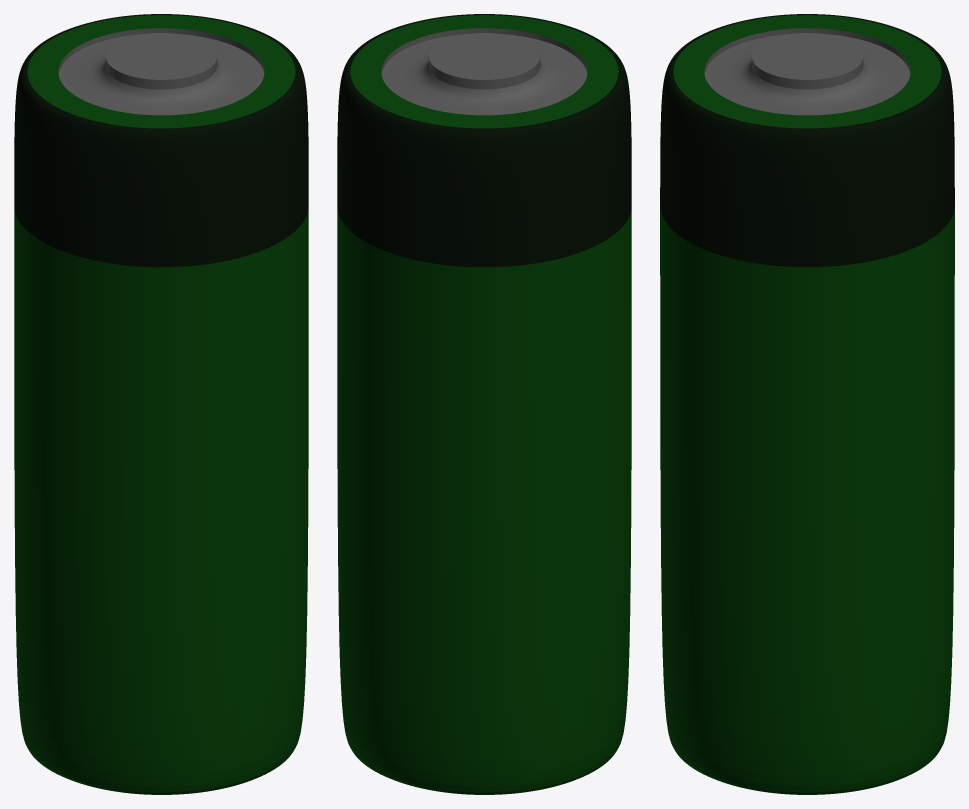
File: Battery.fbx
3 renders of one model, left to right at view 1: azimuth 30°, elevation 25°; view 2: azimuth 150°, elevation 25°; view 3: azimuth 270°, elevation 25°, orthographic.
Parts seen in each view (by area): view 1: Battery; view 2: Battery; view 3: Battery.
Part boxes in pixels (<box>): Battery: <box>14,14,308,794</box>; Battery: <box>337,14,631,794</box>; Battery: <box>660,14,954,794</box>.
Bounding box in the file's own units: 0.8455 × 2.19 × 0.8455.
